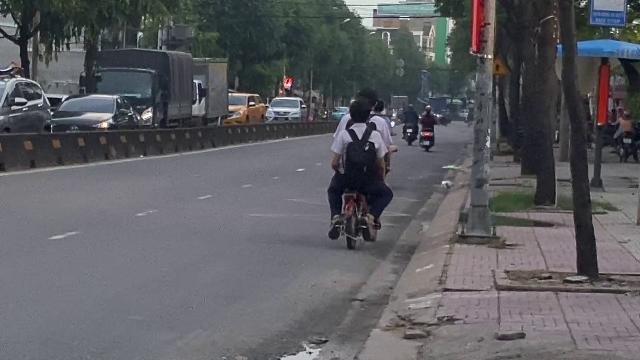motorcyclist: (323, 87, 397, 251)
nohelmet: (346, 96, 372, 126)
